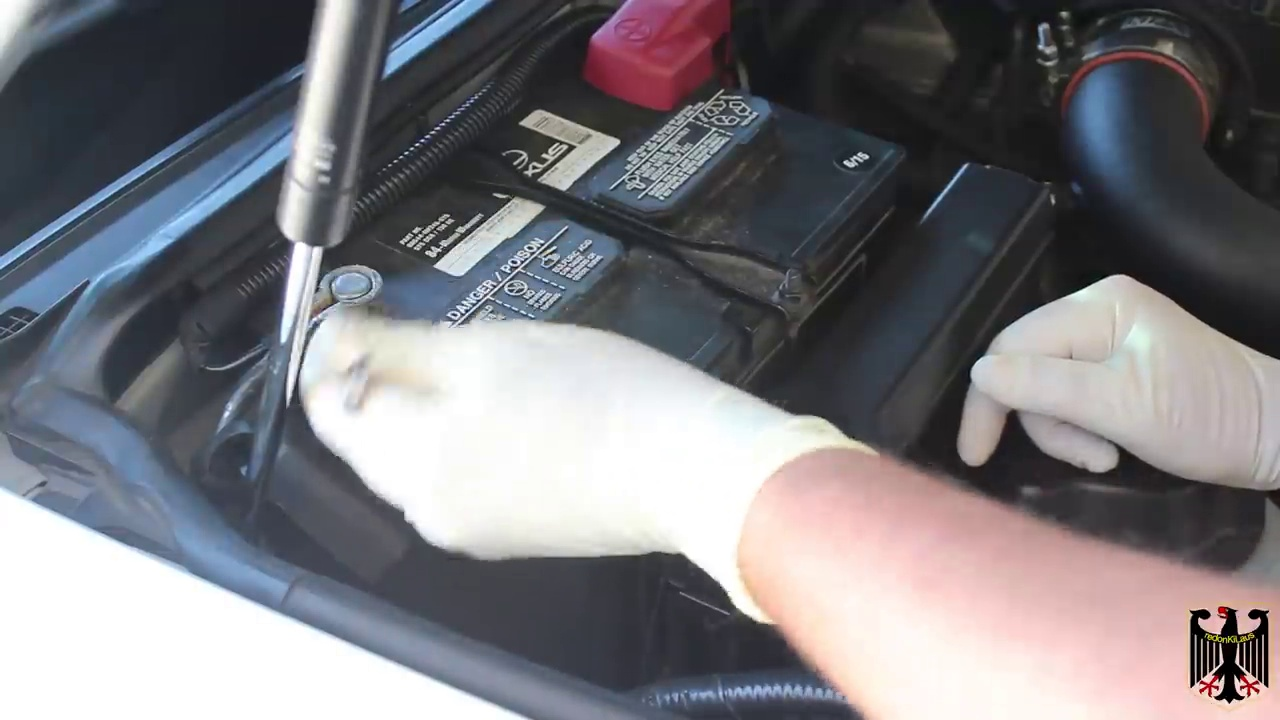battery: (246, 30, 909, 486)
neg_connected: (261, 229, 397, 319)
neg_touched: (242, 229, 535, 462)
pos_connected: (559, 1, 774, 136)
